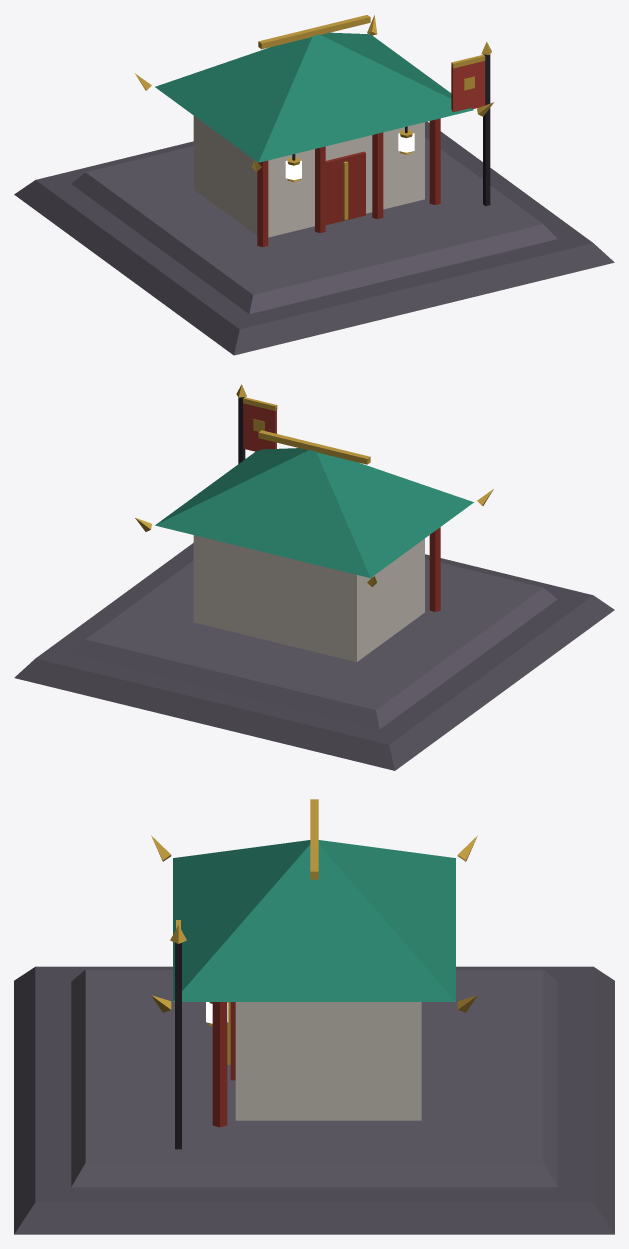
Rendered from castle_t1.glb.
3 renders of one model, top to bottom at view 1: azimuth 30°, elevation 25°; view 2: azimuth 150°, elevation 25°; view 3: azimuth 270°, elevation 25°, orthographic. The views are drawn at different scales.
Visible parts, largest first — view 1: body, glow; view 2: body; view 3: body.
Part boxes in pixels (<box>): body: <box>14,15,614,355</box>; glow: <box>285,133,414,180</box>; body: <box>14,384,614,770</box>; body: <box>14,799,614,1234</box>.
Bounding box in the file's own units: 4.2 × 2.1 × 4.2.
